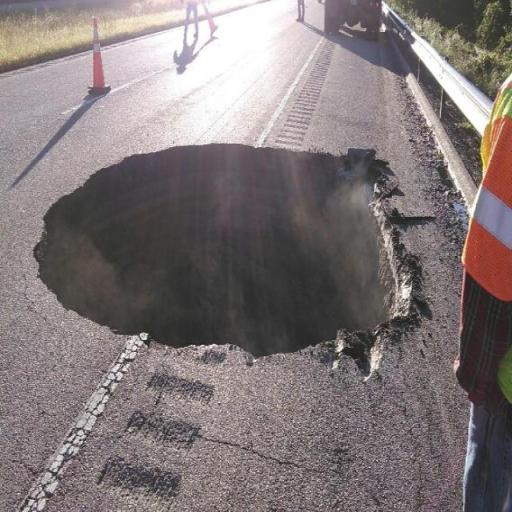Concentric_Crack: (35, 144, 429, 376)
